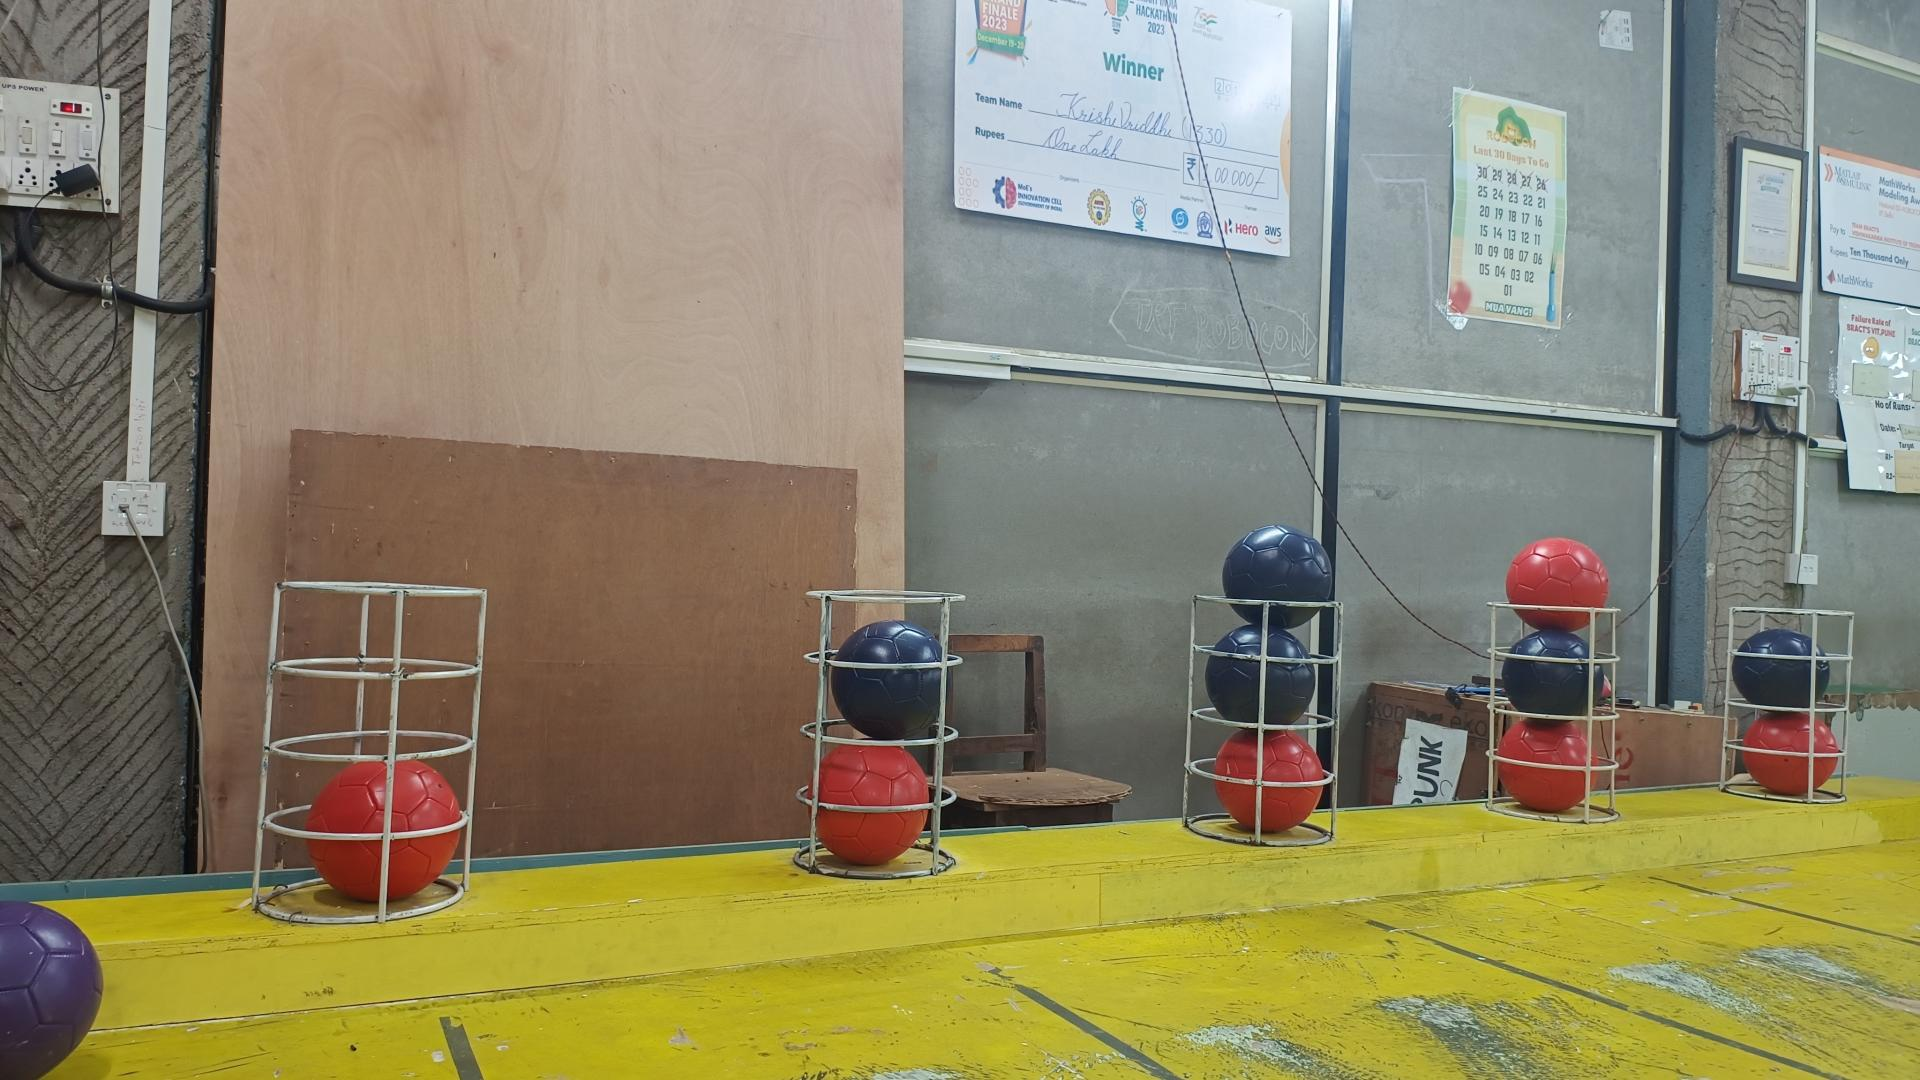dhoka: (832, 618, 952, 738), (1222, 525, 1332, 630), (1204, 622, 1316, 724), (1501, 630, 1605, 716), (1733, 626, 1830, 708)
laale: (307, 757, 462, 899), (806, 742, 930, 866), (1215, 728, 1324, 832), (1503, 537, 1609, 630), (1497, 720, 1597, 814), (1743, 712, 1837, 795)
